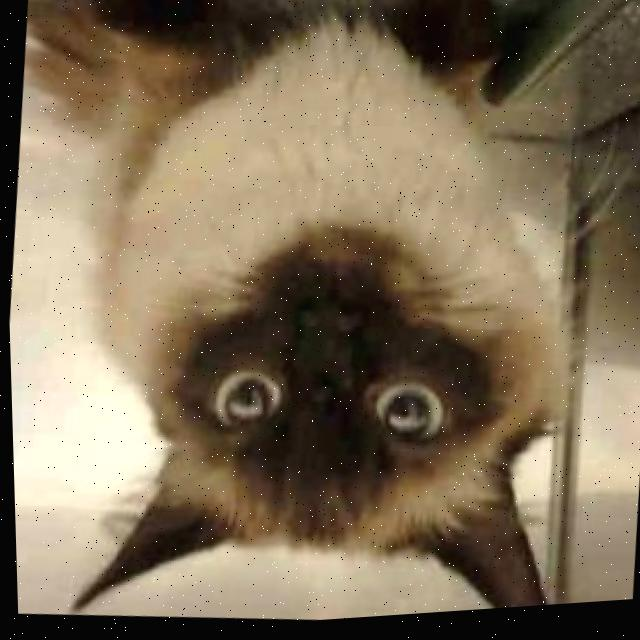Birman: (28, 0, 613, 639)
